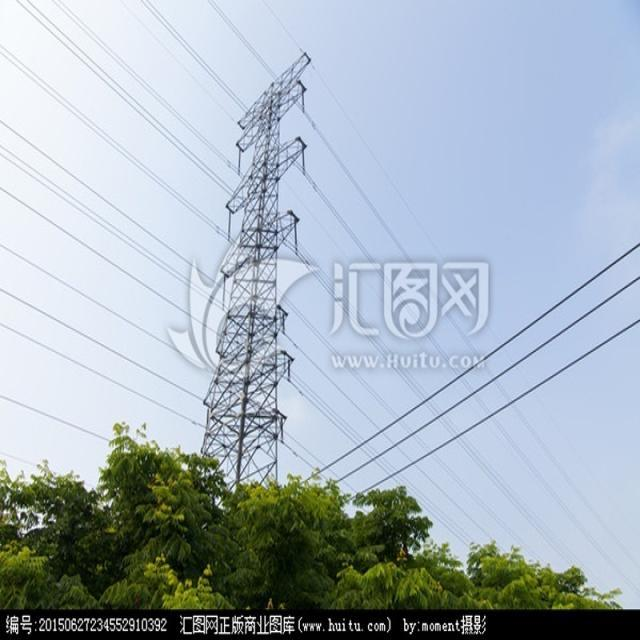non-critical vegetation: (197, 78, 300, 484)
